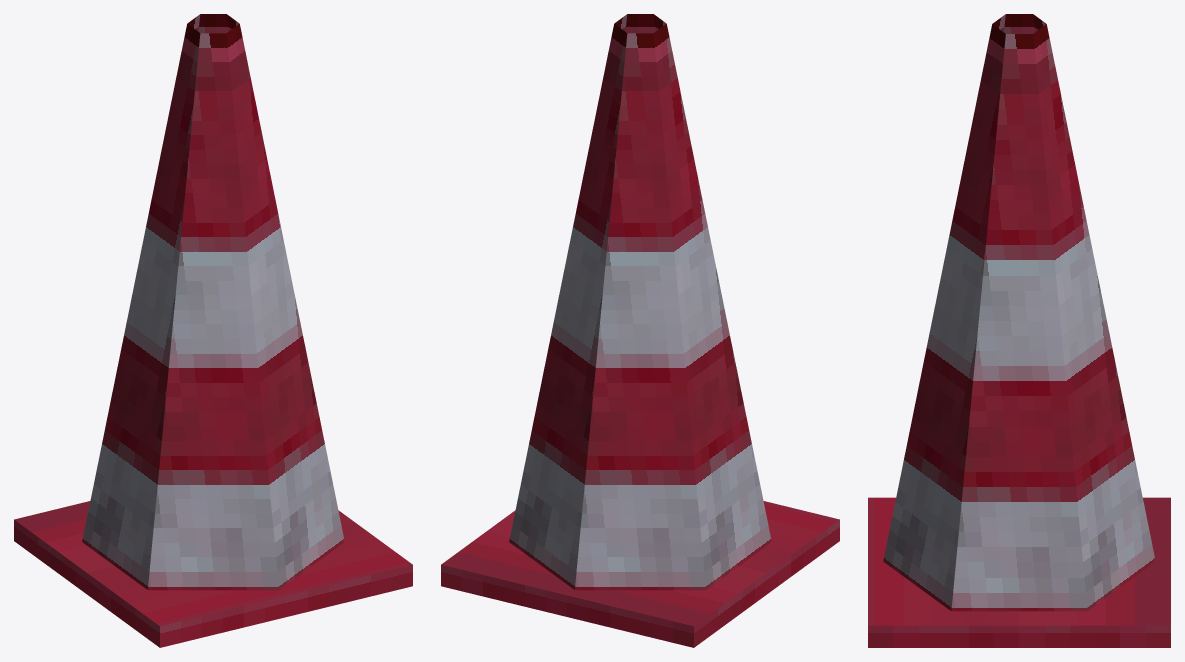
Rendered from TrafficCone02.obj.
3 views of the same model, side by side, from view 1: azimuth 30°, elevation 25°; view 2: azimuth 150°, elevation 25°; view 3: azimuth 270°, elevation 25° (orthographic). The views are drawn at different scales.
Visible parts, largest first — view 1: TrafficCone02; view 2: TrafficCone02; view 3: TrafficCone02.
Boxes of the visible parts, x1,y1,x2,y2 form: TrafficCone02: (14,14,412,647); TrafficCone02: (441,14,839,647); TrafficCone02: (868,14,1170,647).
Size of the model in its own units: 0.4594 by 0.9375 by 0.4594.
